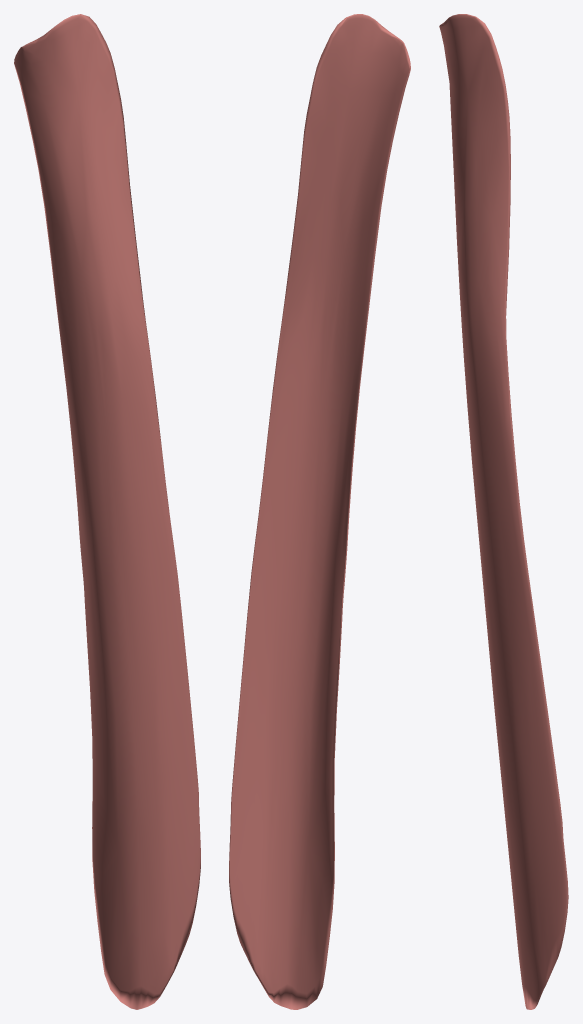
The picture shows the model from 3 angles, left to right: view 1: azimuth 30°, elevation 25°; view 2: azimuth 210°, elevation 25°; view 3: azimuth 330°, elevation 25°; orthographic projection. The views are drawn at different scales.
Visible parts, largest first — view 1: ZA_61080ea537295a23; view 2: ZA_61080ea537295a23; view 3: ZA_61080ea537295a23.
Part boxes in pixels (bbox=[...]): ZA_61080ea537295a23: bbox=[14, 14, 200, 1009]; ZA_61080ea537295a23: bbox=[229, 14, 410, 1009]; ZA_61080ea537295a23: bbox=[439, 14, 568, 1009].
Size of the model in its own units: 0.0483 by 0.297 by 0.0213.
